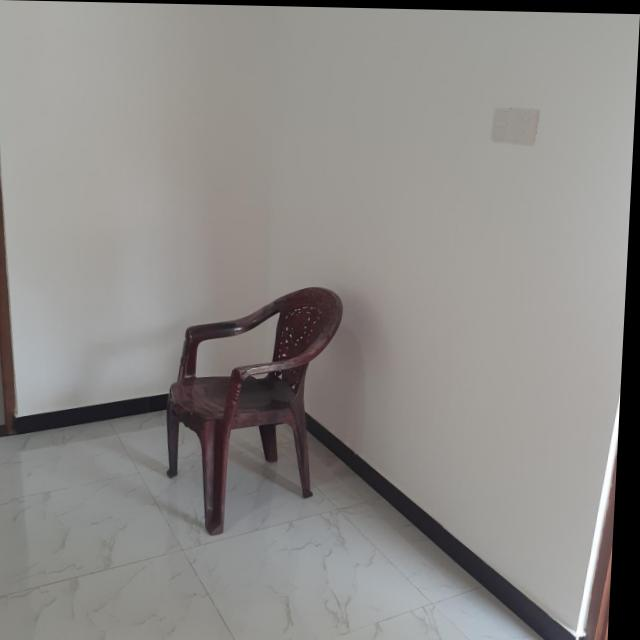Chair: (164, 281, 347, 536)
